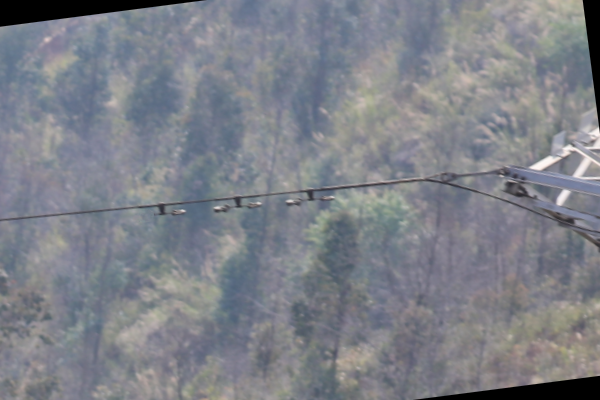damper: (284, 186, 336, 208), (211, 194, 263, 215)
damper_defect: (150, 201, 187, 218)
